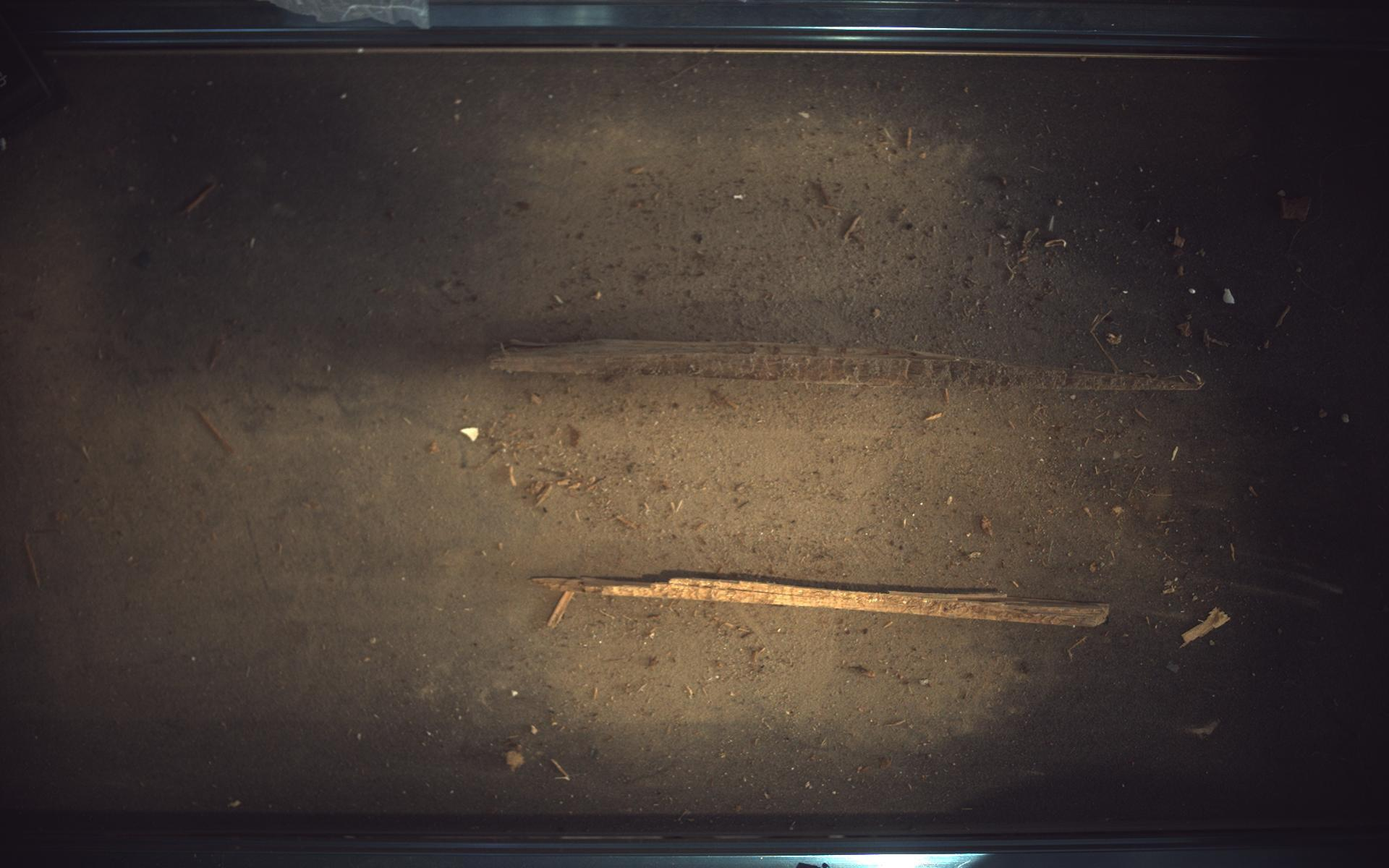wood: (489, 339, 1206, 392), (532, 576, 1110, 629)
